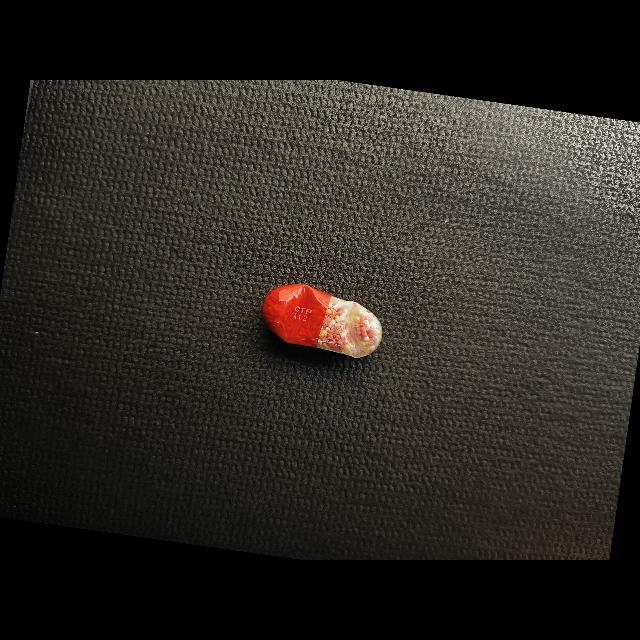Defective Capsule: (262, 284, 383, 358)
